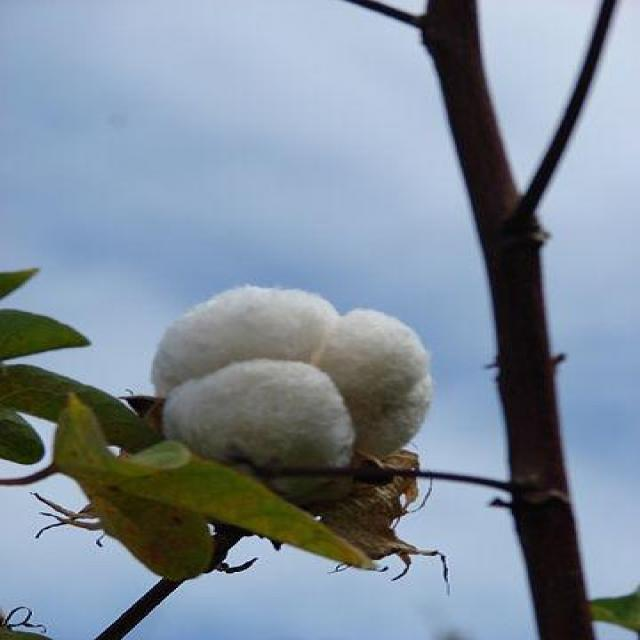Late_blight: (151, 284, 438, 483)
